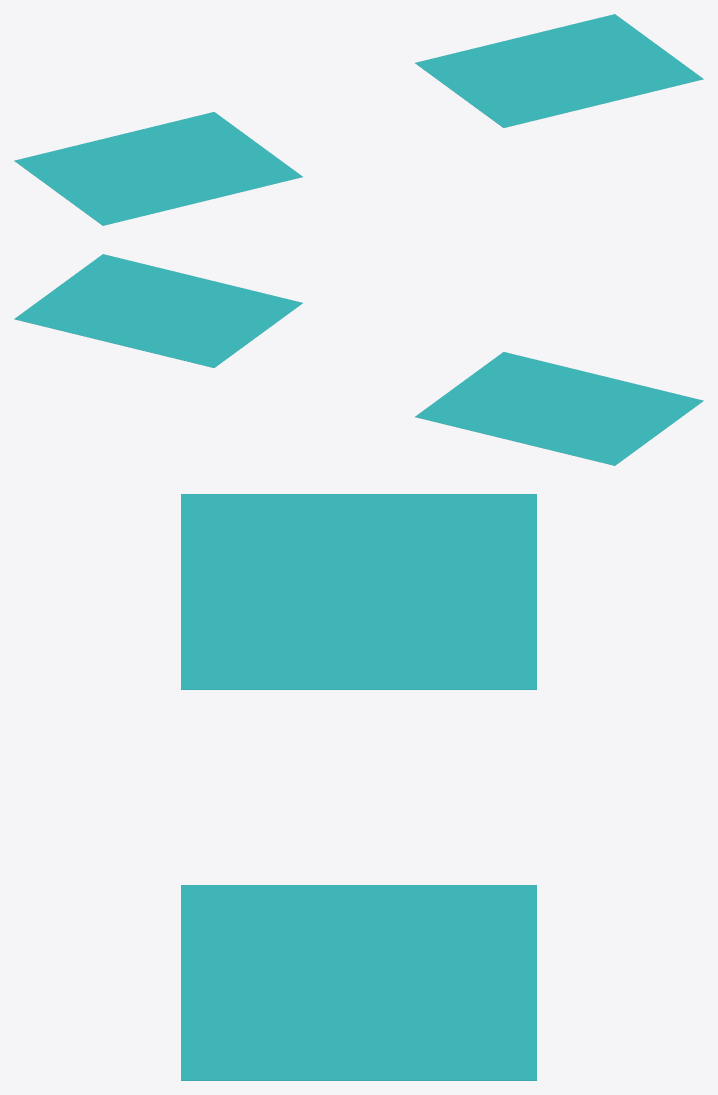
The model's file is SeaFar.fbx.
3 views of the same model, one above another, from view 1: azimuth 30°, elevation 25°; view 2: azimuth 150°, elevation 25°; view 3: azimuth 270°, elevation 25° (orthographic). The views are drawn at different scales.
Visible parts, largest first — view 1: SeaFar-1.001; view 2: SeaFar-1.001; view 3: SeaFar-1.001.
Part boxes in pixels (bbox=[...]): SeaFar-1.001: bbox=[14, 14, 703, 225]; SeaFar-1.001: bbox=[14, 254, 703, 465]; SeaFar-1.001: bbox=[181, 494, 536, 1080].
Size of the model in its own units: 78000 by 20 by 20000.
